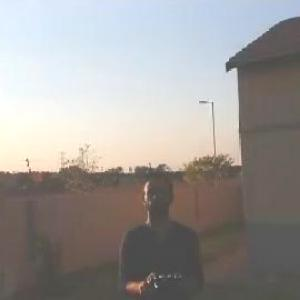follow: (112, 167, 215, 299)
